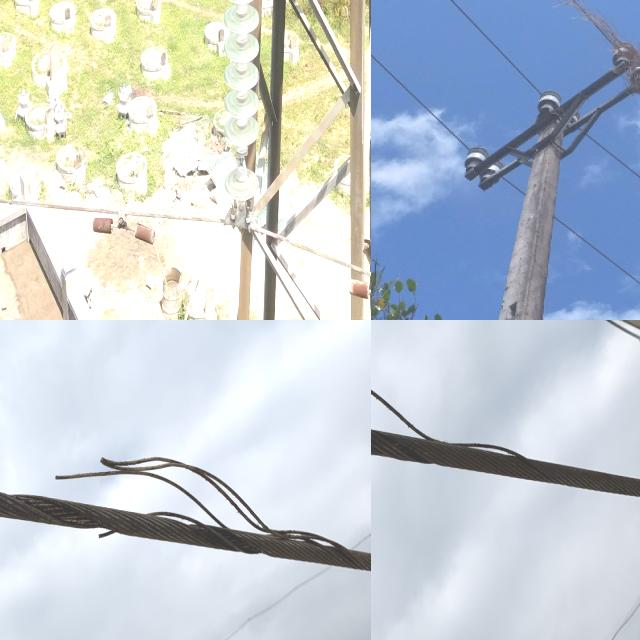杆塔: (215, 0, 371, 320)
植被遮挡: (552, 0, 640, 91)
正常电缆: (0, 187, 226, 229), (254, 220, 371, 288)
正常绝缘子: (224, 0, 261, 223)
电缆破损: (0, 424, 360, 592), (371, 386, 534, 484)
绝缘子破损: (235, 150, 247, 175)
